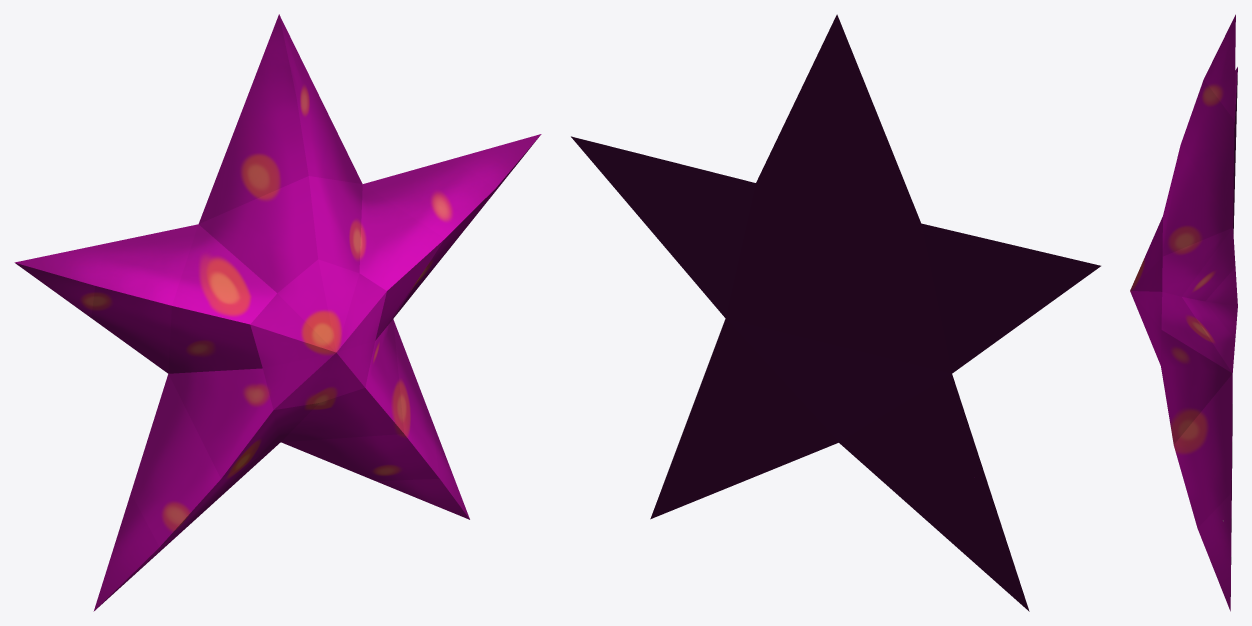
Rendered from EstrellaMar.glb.
The picture shows the model from 3 angles, left to right: view 1: azimuth 30°, elevation 25°; view 2: azimuth 150°, elevation 25°; view 3: azimuth 270°, elevation 25°; orthographic projection. The views are drawn at different scales.
Parts seen in each view (by area): view 1: Estrella de mar; view 2: Estrella de mar; view 3: Estrella de mar.
Part boxes in pixels (x1=…): Estrella de mar: x1=14, y1=14, x2=541, y2=611; Estrella de mar: x1=571, y1=14, x2=1100, y2=611; Estrella de mar: x1=1130, y1=14, x2=1237, y2=611.
Size of the model in its own units: 30.77 by 30.65 by 5.85.
Materials: 1 (1 with a texture image).
